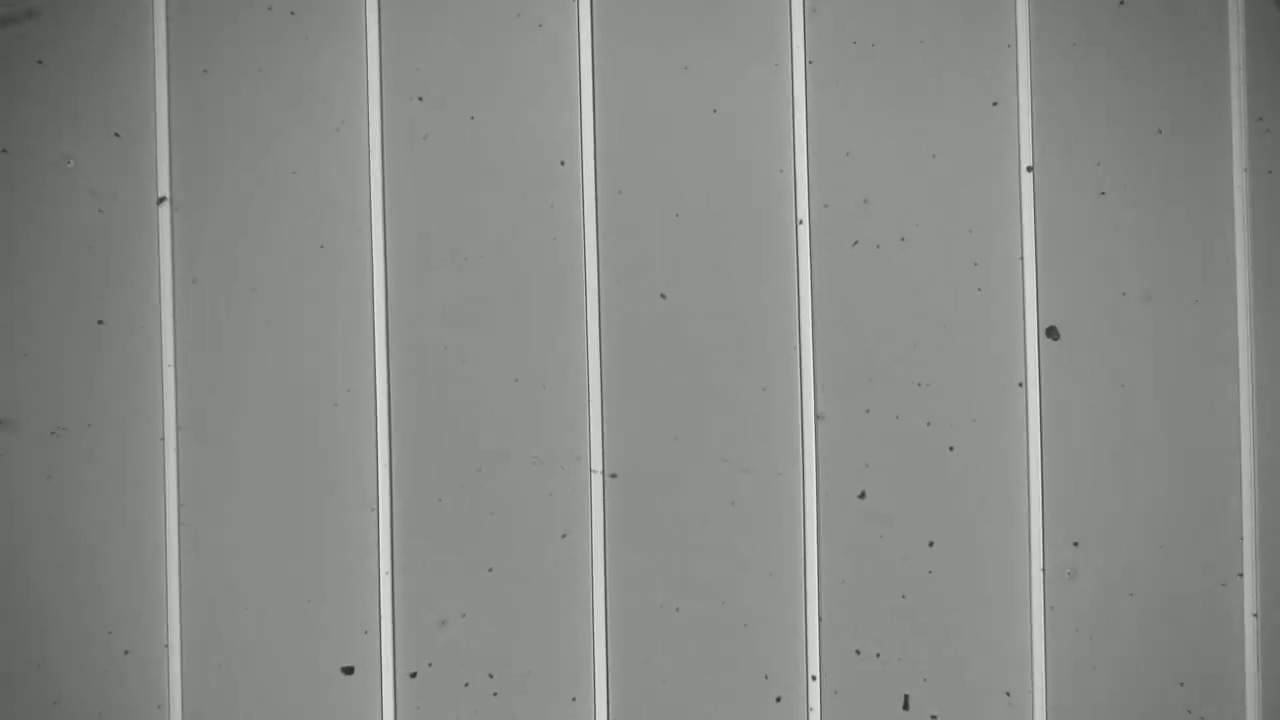stains_enbedded: (1017, 154, 1041, 182), (151, 192, 172, 212)
